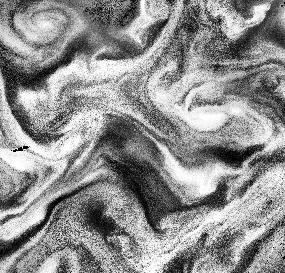CE: (7, 2, 74, 56)
